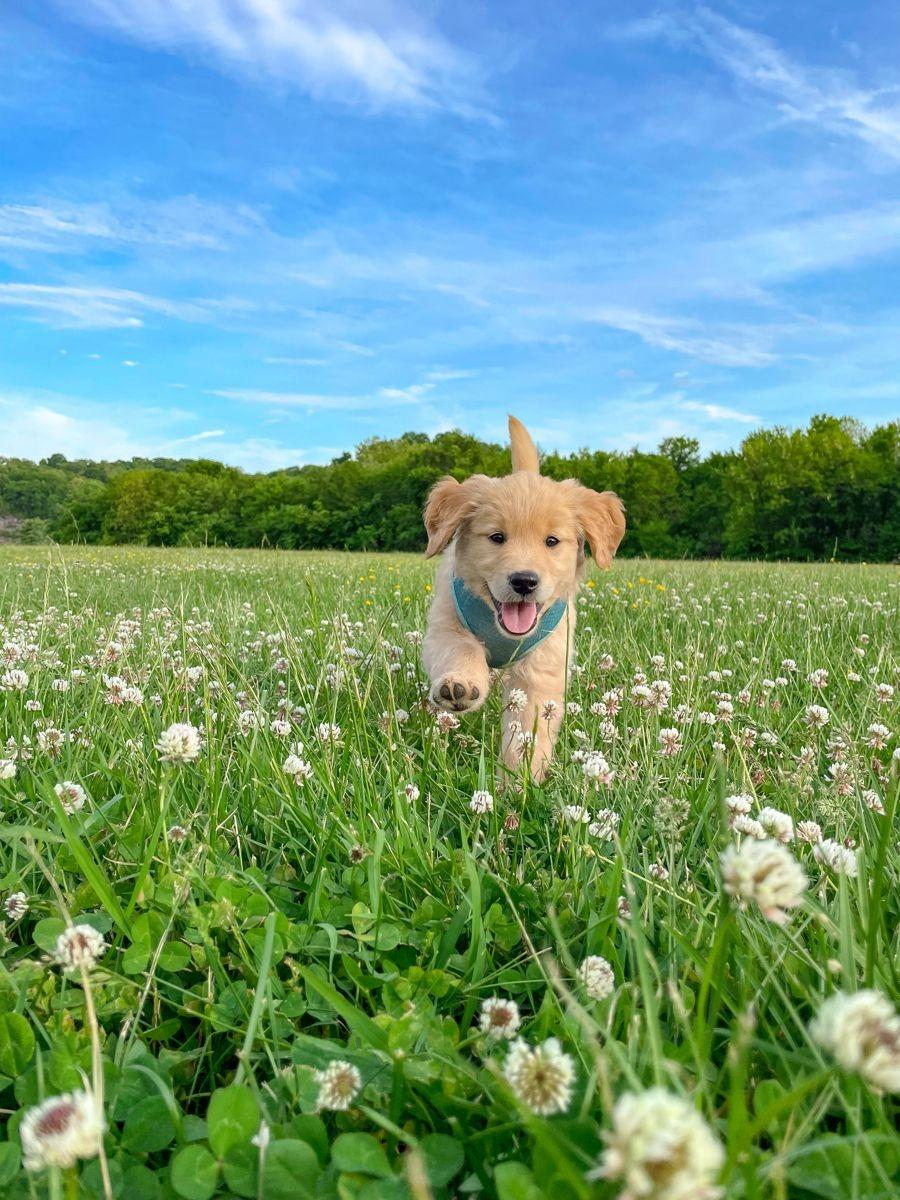puppy-dog: (419, 411, 628, 787)
